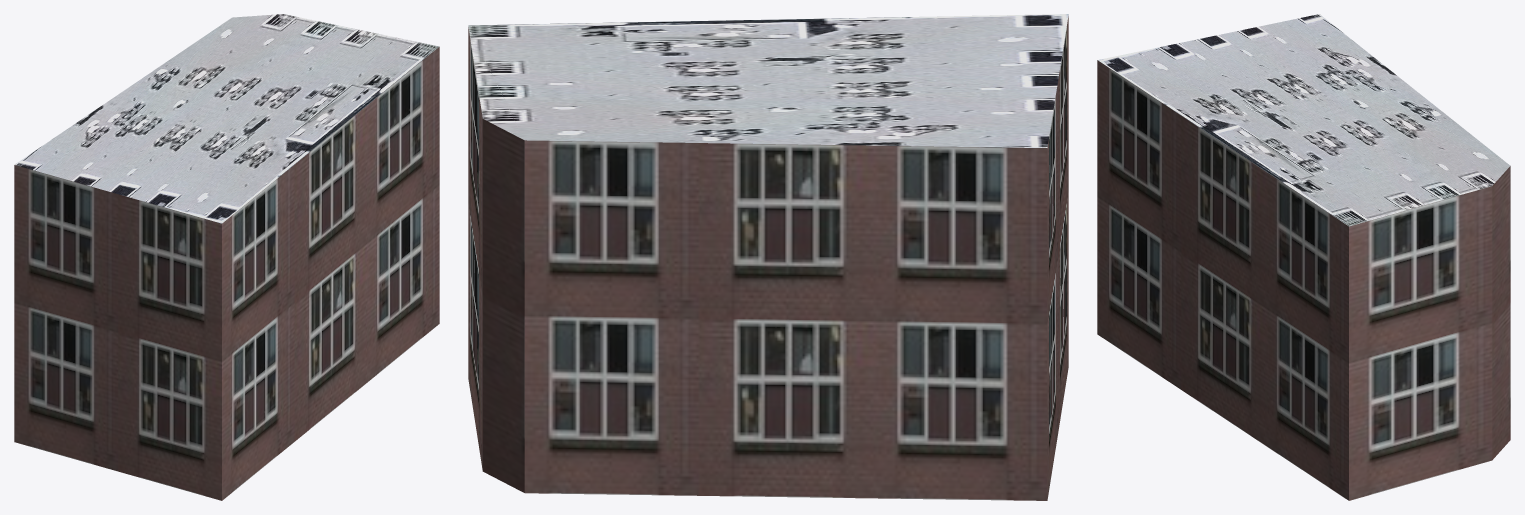
The model's file is ResTex__2492.fbx.
The picture shows the model from 3 angles, left to right: view 1: azimuth 30°, elevation 25°; view 2: azimuth 150°, elevation 25°; view 3: azimuth 270°, elevation 25°; orthographic projection. The views are drawn at different scales.
Parts seen in each view (by area): view 1: CityEngineMaterial_12_m, CityEngineMaterial_4_m; view 2: CityEngineMaterial_12_m, CityEngineMaterial_4_m; view 3: CityEngineMaterial_12_m, CityEngineMaterial_4_m.
Part boxes in pixels (x1,y1,x2,y2): CityEngineMaterial_12_m: (14,47,439,500); CityEngineMaterial_4_m: (14,14,439,223); CityEngineMaterial_12_m: (468,16,1068,500); CityEngineMaterial_4_m: (468,14,1068,147); CityEngineMaterial_12_m: (1097,60,1510,500); CityEngineMaterial_4_m: (1098,14,1510,226).
Bounding box in the file's own units: 9.97 × 6 × 8.19.
2 materials, 2 textured.
